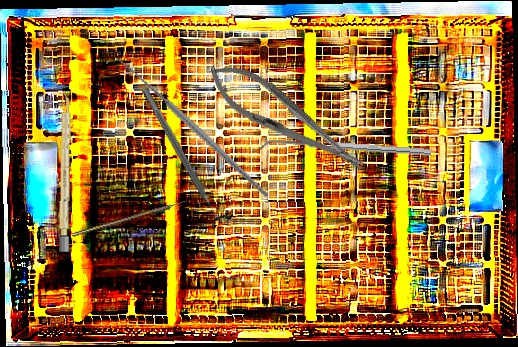Fixation Ring: (134, 82, 233, 230)
Hook Surgical: (105, 27, 271, 230), (71, 199, 188, 238)
Needle Holder: (198, 50, 374, 187)
Scalpel Handle: (58, 91, 72, 253)
Spatula Surgical: (259, 137, 432, 162)
